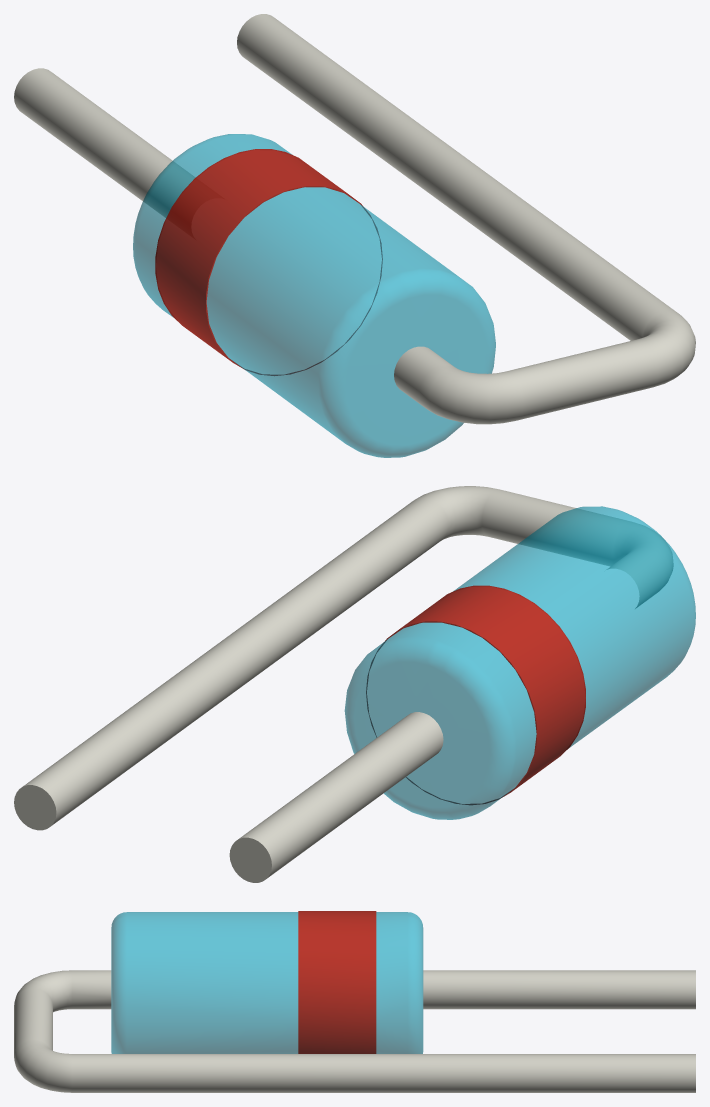
File: d-do-35-sod27-p2.54-v-anodeup.glb
The picture shows the model from 3 angles, top to bottom: view 1: azimuth 30°, elevation 25°; view 2: azimuth 150°, elevation 25°; view 3: azimuth 270°, elevation 25°; orthographic projection. The views are drawn at different scales.
Visible parts, largest first — view 1: GLASS-13, PIN-01, LED-RED; view 2: GLASS-13, PIN-01, LED-RED; view 3: PIN-01, GLASS-13, LED-RED.
Part boxes in pixels (bbox=[...]): GLASS-13: bbox=[133, 134, 495, 457]; PIN-01: bbox=[14, 14, 695, 424]; LED-RED: bbox=[155, 149, 382, 375]; GLASS-13: bbox=[344, 506, 695, 819]; PIN-01: bbox=[14, 486, 673, 882]; LED-RED: bbox=[366, 585, 585, 804]; PIN-01: bbox=[14, 970, 695, 1092]; GLASS-13: bbox=[111, 912, 423, 1053]; LED-RED: bbox=[298, 911, 376, 1053].
Bounding box in the file's own units: 3.8 × 2.02 × 8.75.
